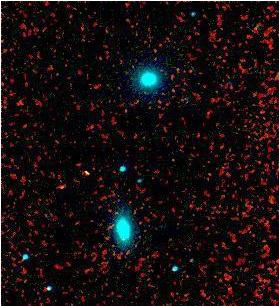star: (74, 157, 104, 187)
